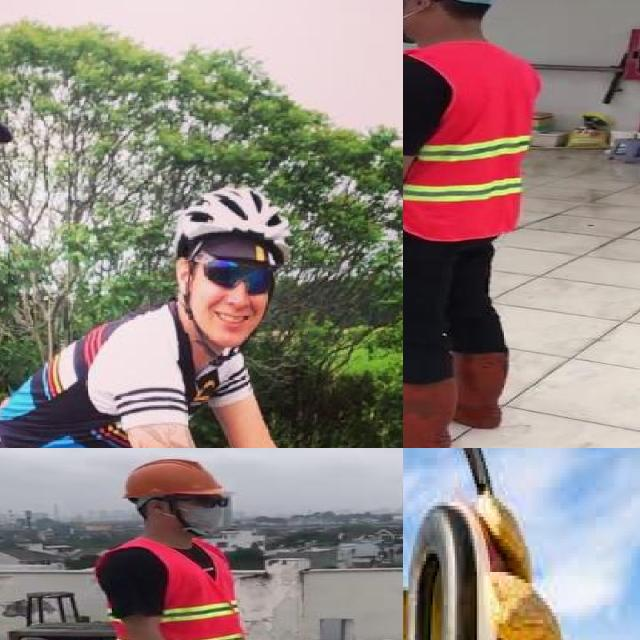Ear-protection: (403, 498, 507, 640)
boots: (406, 338, 513, 431), (403, 367, 456, 448)
face_mask: (180, 494, 234, 530)
face_nomask: (204, 262, 270, 339)
glasses: (199, 252, 277, 300), (180, 491, 234, 512)
hand_glove: (439, 487, 565, 640)
head_helmet: (169, 178, 300, 254), (118, 456, 228, 499)
person: (0, 182, 297, 448), (403, 0, 552, 448), (85, 453, 271, 640), (403, 495, 565, 640)
vest: (403, 41, 539, 239), (92, 534, 248, 640)
